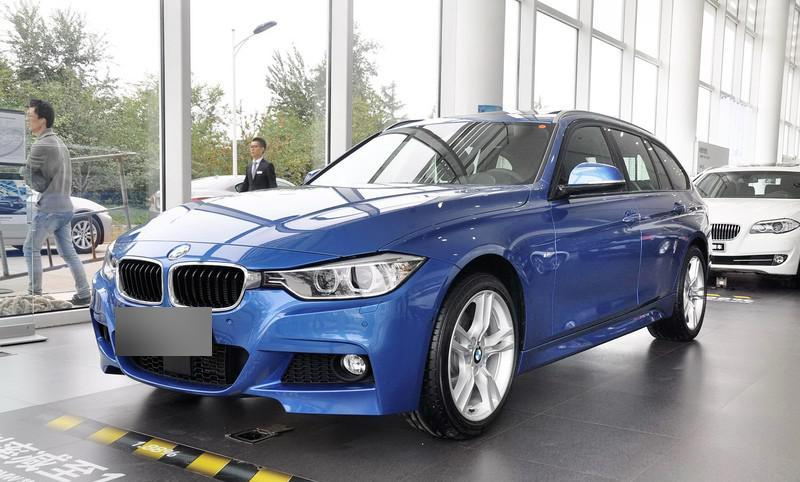Wagon: (88, 107, 713, 440)
